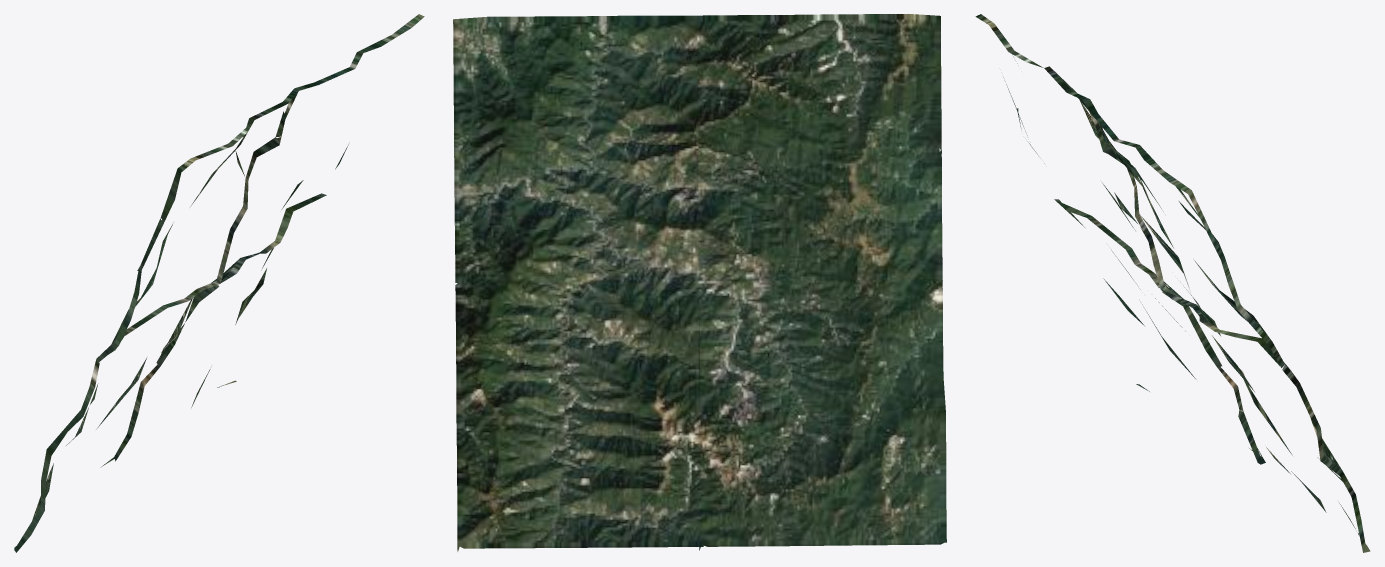
3 renders of one model, left to right at view 1: azimuth 30°, elevation 25°; view 2: azimuth 150°, elevation 25°; view 3: azimuth 270°, elevation 25°, orthographic. The views are drawn at different scales.
Bounding box in the file's own units: 39763 × 36813 × 31761.
1 material, 1 textured.
